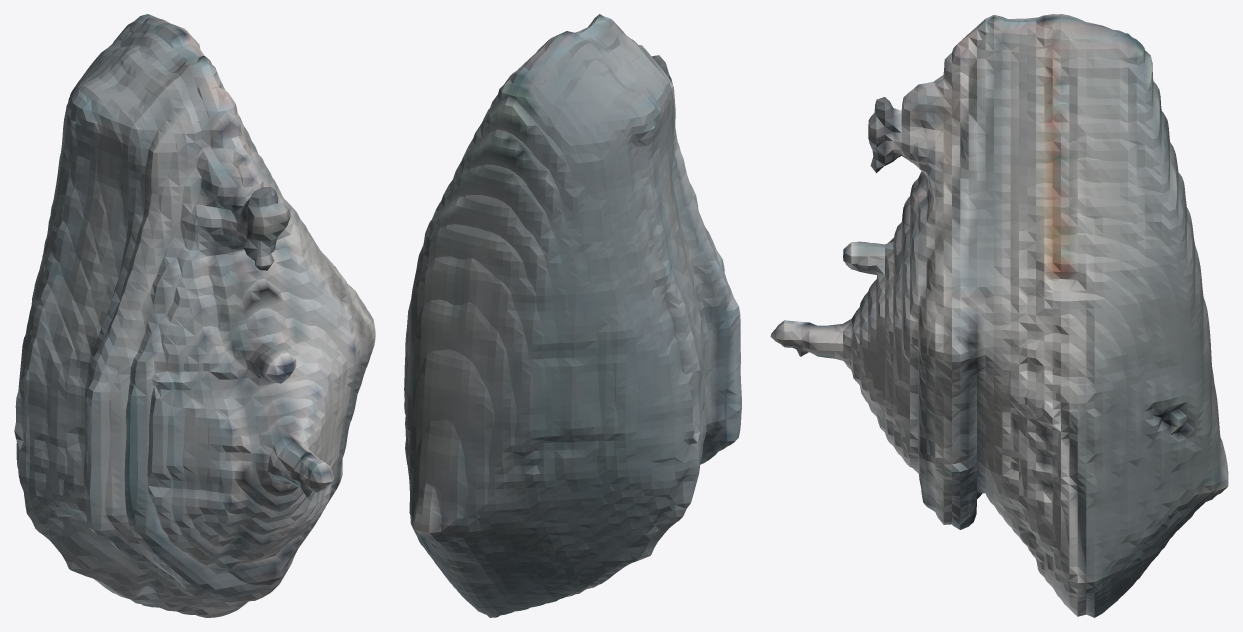
3 views of the same model, side by side, from view 1: azimuth 30°, elevation 25°; view 2: azimuth 150°, elevation 25°; view 3: azimuth 270°, elevation 25° (orthographic). The views are drawn at different scales.
Visible parts, largest first — view 1: world; view 2: world; view 3: world.
Boxes of the visible parts, x1,y1,x2,y2 form: world: [14, 14, 375, 617]; world: [404, 14, 741, 617]; world: [770, 14, 1228, 617].
Bounding box in the file's own units: 0.5333 × 1.03 × 0.7481.
